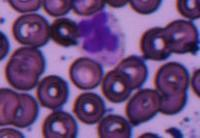N: (79, 8, 125, 62)
